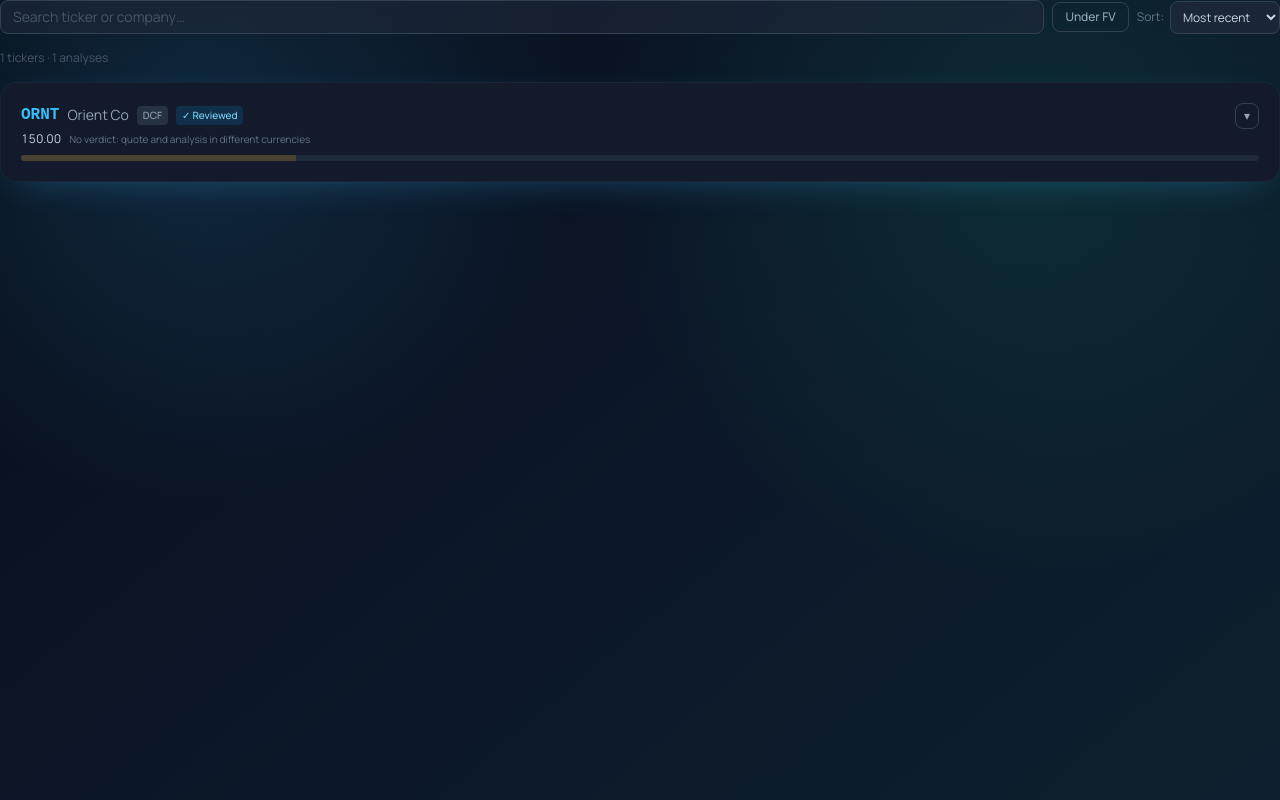
Test: AnalysesList — open lots and verdict basis › counts only the open lot in the position badge
# The badge lives in the card's expanded body: open it from the ticker header.
Click the text "ORNT".
click(40, 115)  # box [21, 103, 59, 127]
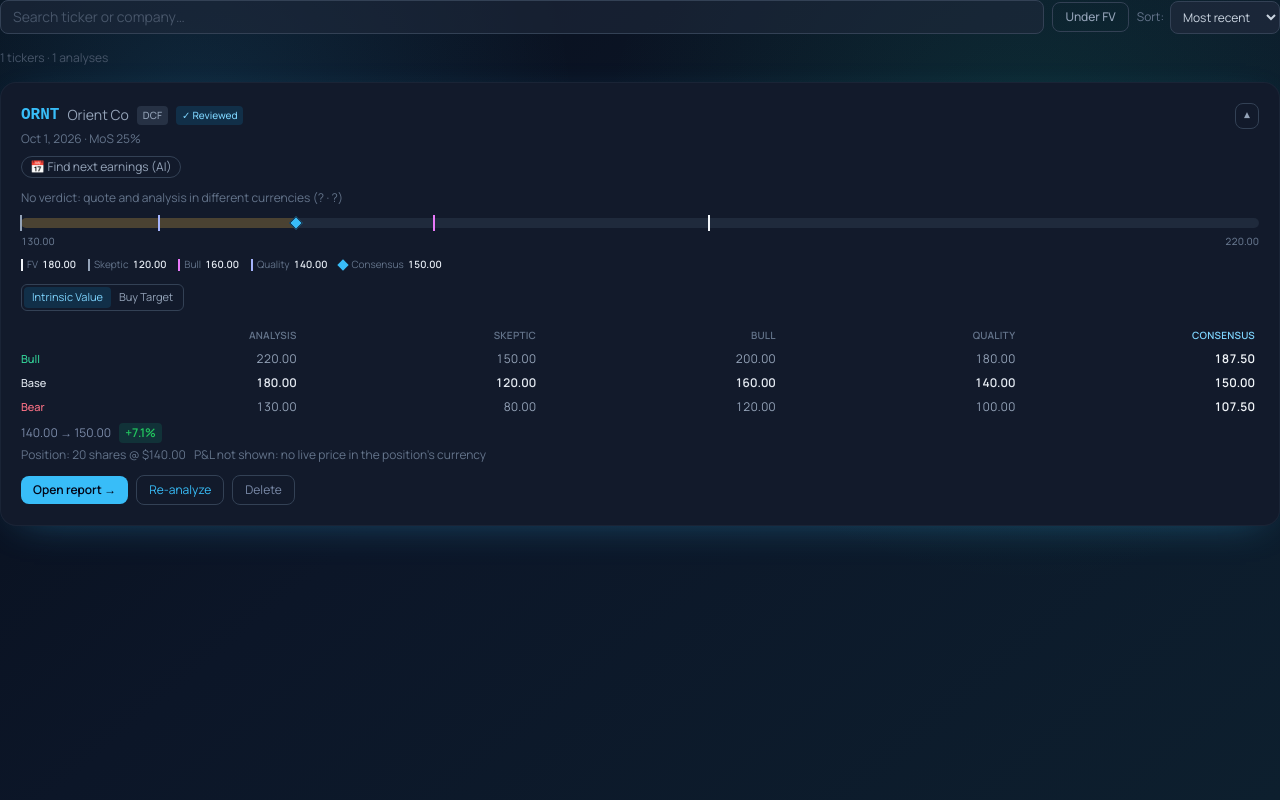
Expected: the text "Position: 20 shares @ $140.00" is shown, [21, 446, 186, 462]
